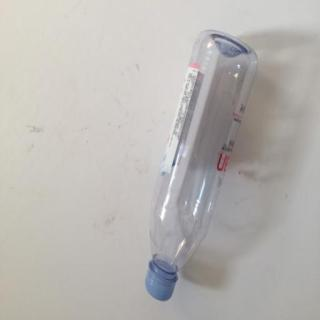Plastic-bottle: (143, 29, 261, 304)
